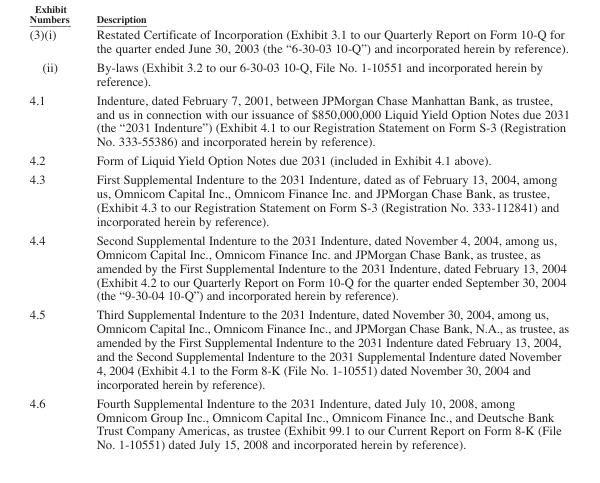table: (28, 28, 568, 451)
table column: (76, 28, 568, 451), (28, 28, 76, 451)
table row: (28, 305, 568, 394), (28, 231, 568, 305), (28, 170, 568, 231), (28, 91, 568, 151), (28, 394, 568, 451), (28, 58, 568, 91), (28, 28, 568, 58), (28, 151, 568, 170)
